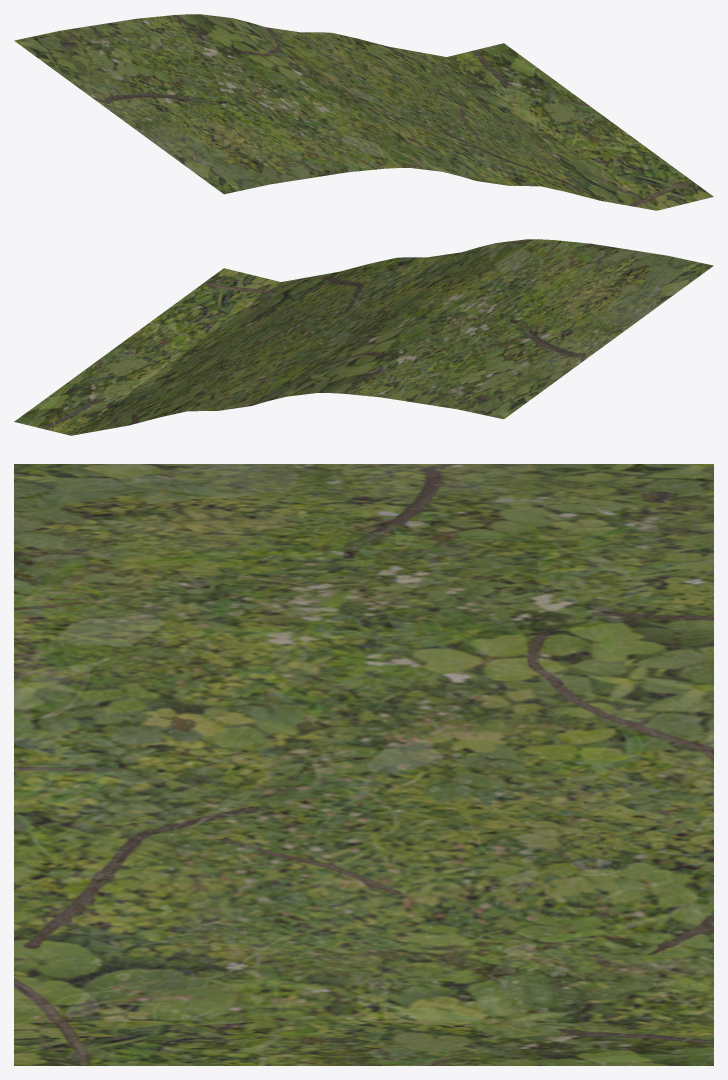
Rendered from GrassSlopeNormal.fbx.
3 views of the same model, one above another, from view 1: azimuth 30°, elevation 25°; view 2: azimuth 150°, elevation 25°; view 3: azimuth 270°, elevation 25° (orthographic). The views are drawn at different scales.
Parts seen in each view (by area): view 1: GrassSlope_normal_done; view 2: GrassSlope_normal_done; view 3: GrassSlope_normal_done.
Part boxes in pixels (bbox=[...]): GrassSlope_normal_done: bbox=[14, 14, 713, 210]; GrassSlope_normal_done: bbox=[14, 239, 713, 435]; GrassSlope_normal_done: bbox=[14, 464, 713, 1065].
Bounding box in the file's own units: 318 × 75.74 × 236.
Materials: 1 (1 with a texture image).
